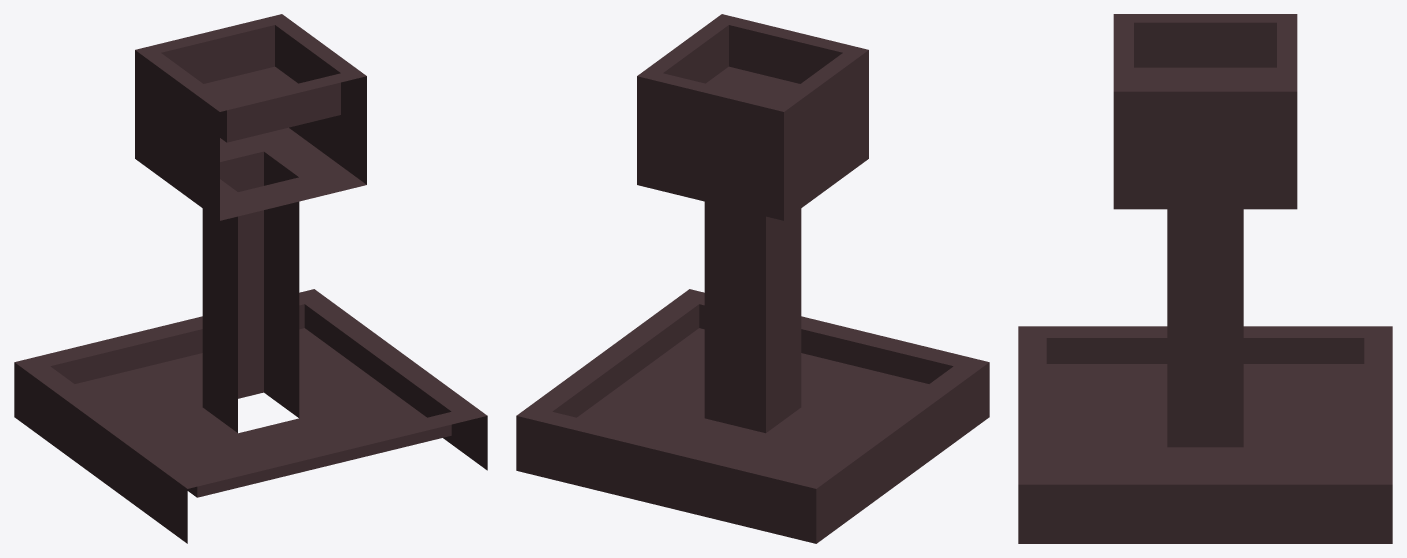
The model's file is Chechpoint off.fbx.
3 renders of one model, left to right at view 1: azimuth 30°, elevation 25°; view 2: azimuth 150°, elevation 25°; view 3: azimuth 270°, elevation 25°, orthographic. The views are drawn at different scales.
Parts seen in each view (by area): view 1: Cube; view 2: Cube; view 3: Cube.
Part boxes in pixels (left/top/right/bottom): Cube: left=14, top=14, right=487, bottom=543; Cube: left=516, top=14, right=989, bottom=543; Cube: left=1018, top=14, right=1392, bottom=543.
Bounding box in the file's own units: 738 × 896 × 738.
